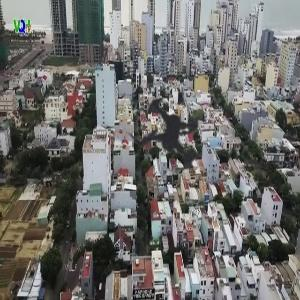drone: (56, 28, 278, 250)
